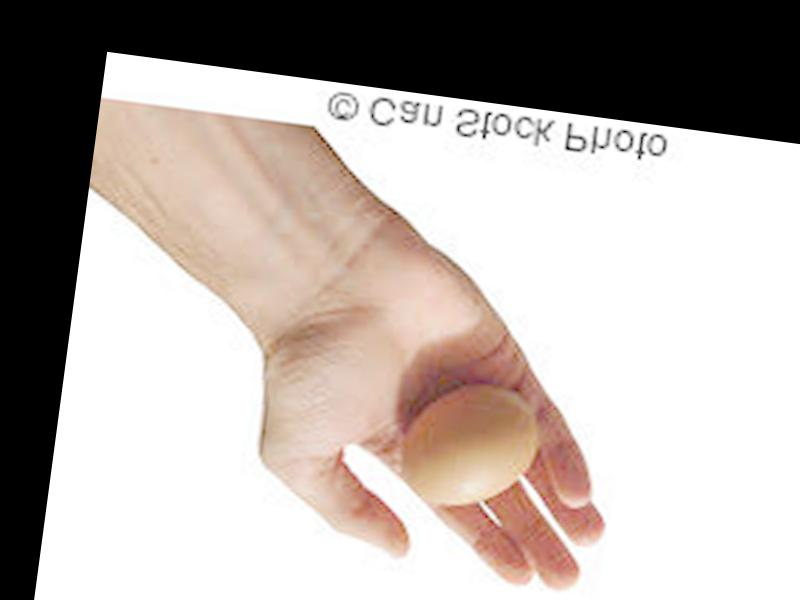Eggs: (401, 378, 546, 511)
